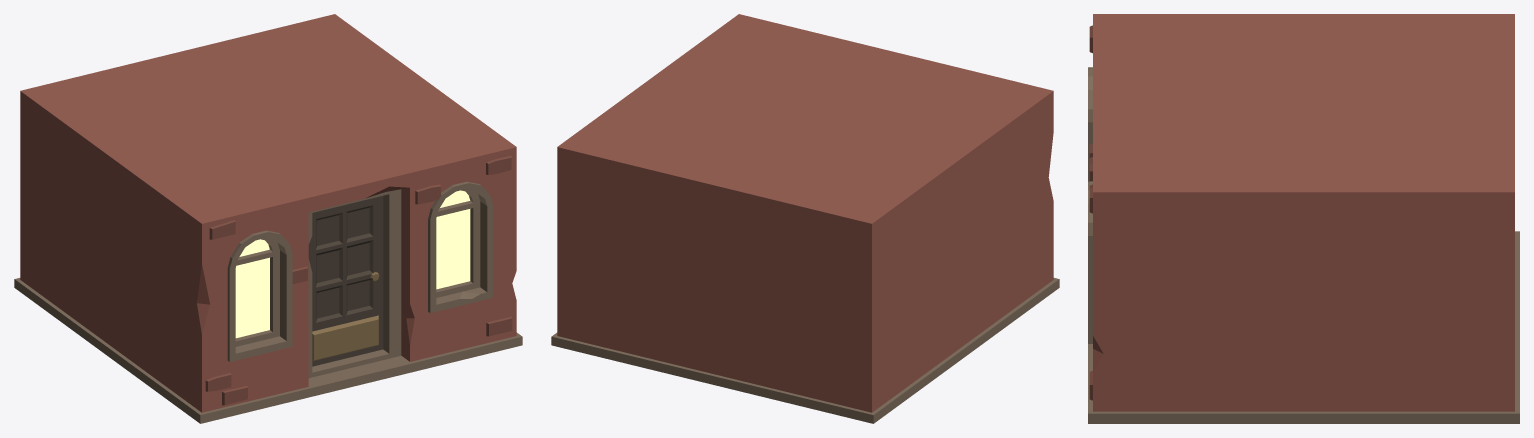
The model's file is SM_Bld_Apartment_Door_02.fbx.
3 renders of one model, left to right at view 1: azimuth 30°, elevation 25°; view 2: azimuth 150°, elevation 25°; view 3: azimuth 270°, elevation 25°, orthographic. The views are drawn at different scales.
Visible parts, largest first — view 1: SM_Bld_Apartment_Door_02; view 2: SM_Bld_Apartment_Door_02; view 3: SM_Bld_Apartment_Door_02.
Part boxes in pixels (<box>): SM_Bld_Apartment_Door_02: <box>14,14,522,423</box>; SM_Bld_Apartment_Door_02: <box>551,14,1059,423</box>; SM_Bld_Apartment_Door_02: <box>1088,14,1519,423</box>.
Size of the model in its own units: 511 by 300 by 512.
